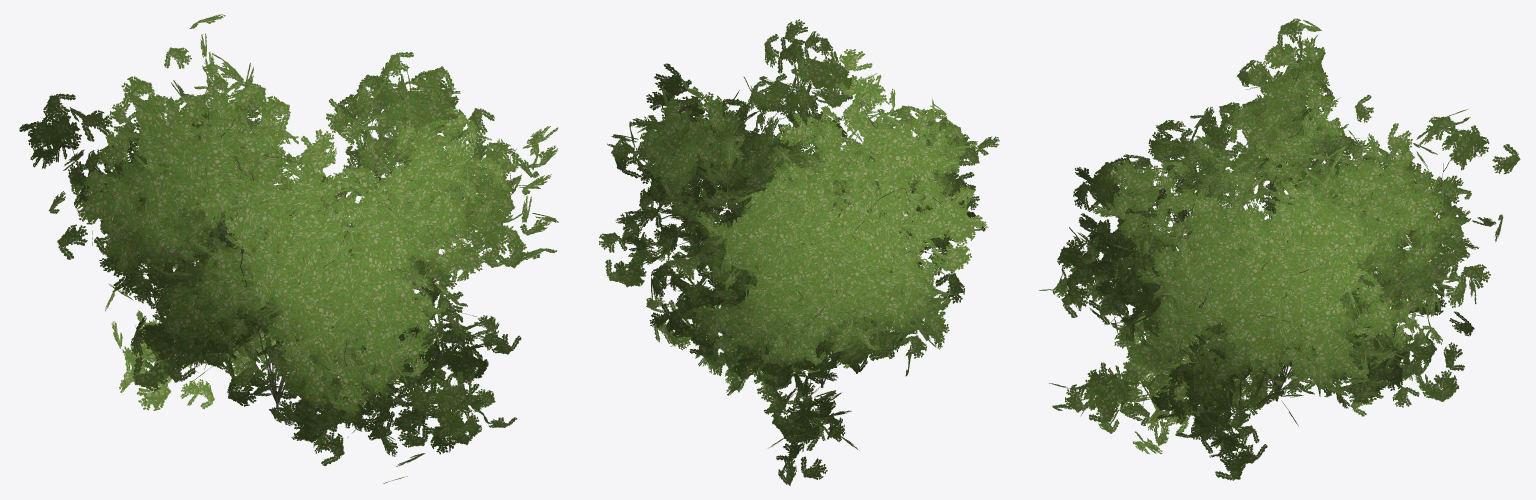
File: KO3_KermesOak_TallDense_2.8m.glb
The picture shows the model from 3 angles, left to right: view 1: azimuth 30°, elevation 25°; view 2: azimuth 150°, elevation 25°; view 3: azimuth 270°, elevation 25°; orthographic projection. The views are drawn at different scales.
Visible parts, largest first — view 1: KO3_leaves, KO3_wood; view 2: KO3_leaves, KO3_wood; view 3: KO3_leaves, KO3_wood.
Boxes of the visible parts, x1,y1,x2,y2 form: KO3_leaves: [19, 14, 558, 483]; KO3_wood: [47, 63, 516, 429]; KO3_leaves: [599, 19, 999, 485]; KO3_wood: [627, 48, 963, 431]; KO3_leaves: [1039, 18, 1520, 480]; KO3_wood: [1066, 55, 1477, 431].
Bounding box in the file's own units: 3.26 × 3.07 × 3.46.
Materials: 2 (2 with a texture image).
